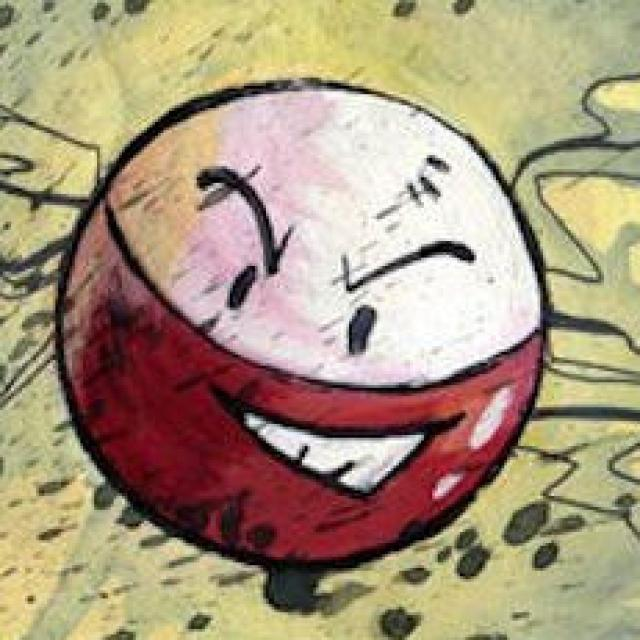Electrode: (58, 88, 546, 574)
